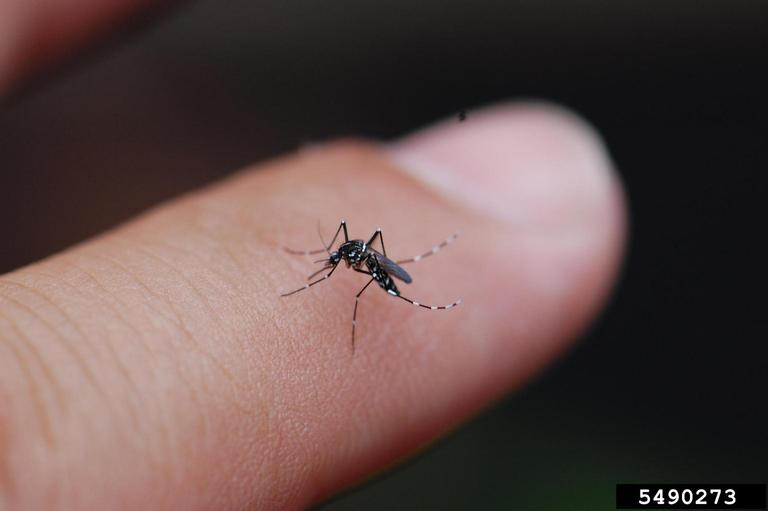dengue_mosquito: (282, 221, 463, 325)
